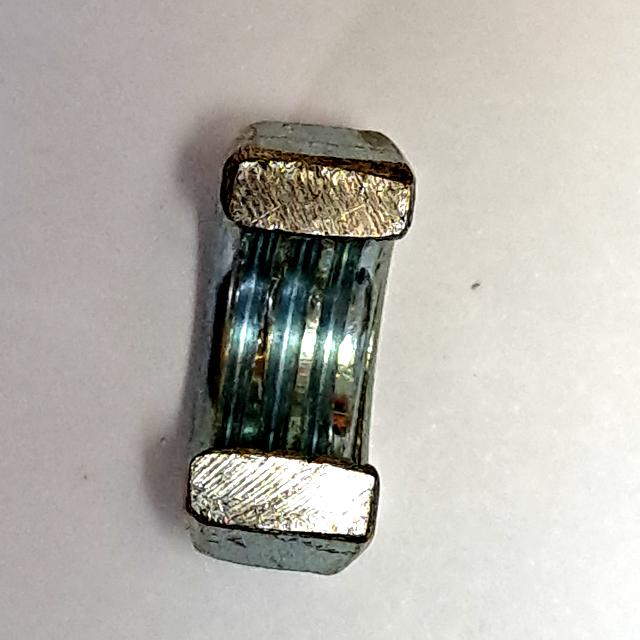Side-Fracture: (166, 113, 430, 584)
